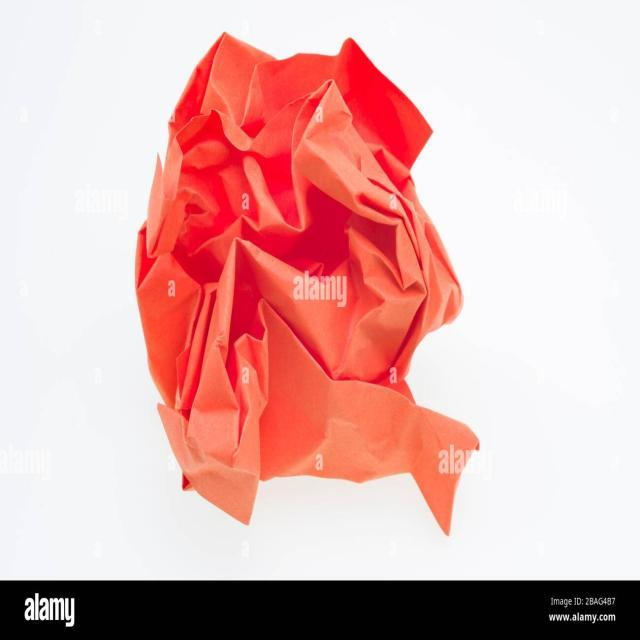Paper: (134, 33, 480, 538)
